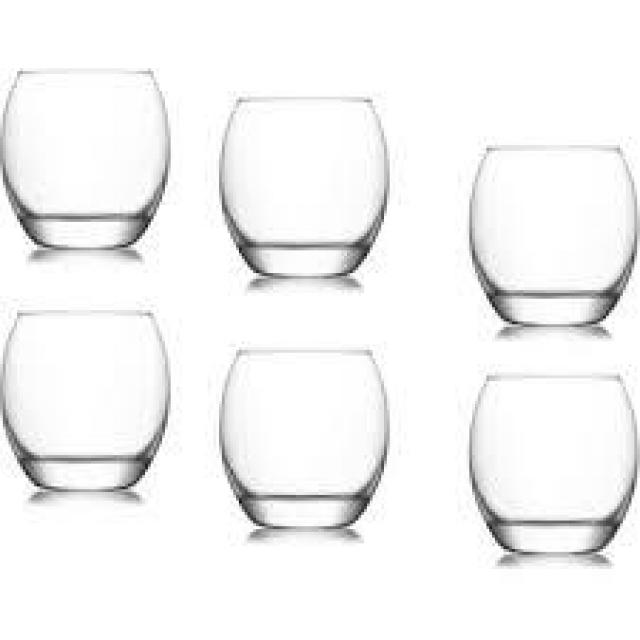non-organic waste: (221, 94, 391, 279)
